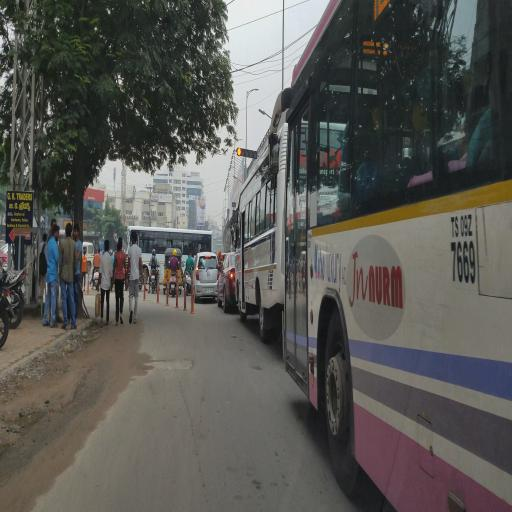street_light_0: (258, 96, 276, 126), (246, 78, 262, 98)
